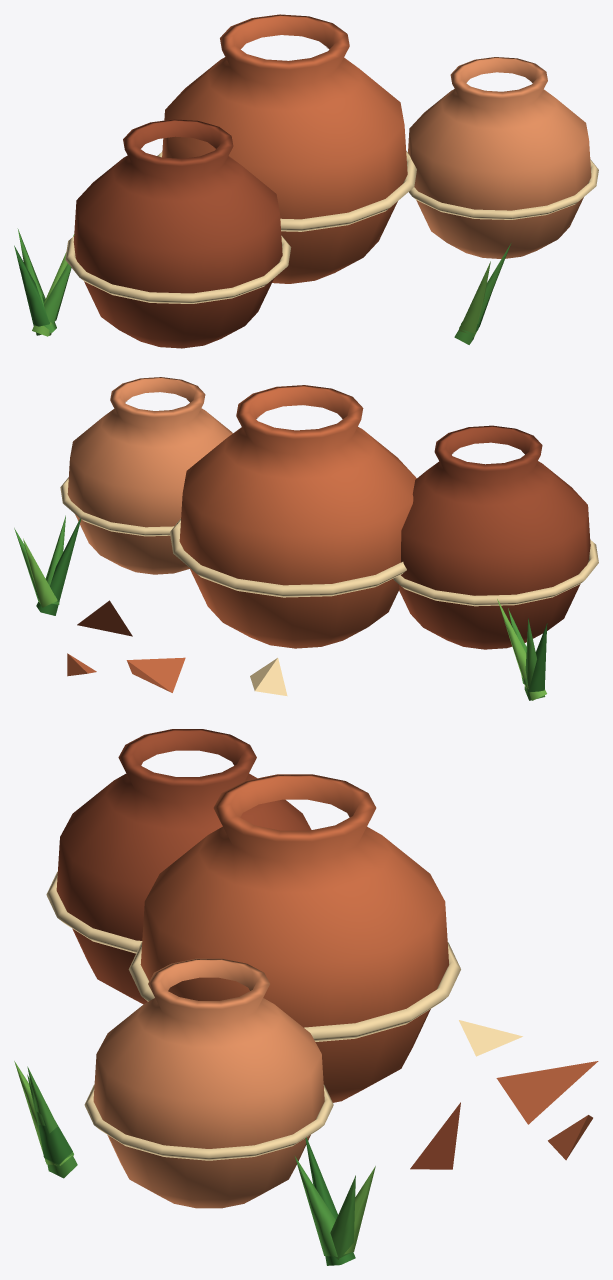
Rendered from ClayPotGroup.glb.
The picture shows the model from 3 angles, top to bottom: view 1: azimuth 30°, elevation 25°; view 2: azimuth 150°, elevation 25°; view 3: azimuth 270°, elevation 25°; orthographic projection. The views are drawn at different scales.
Visible parts, largest first — view 1: Body, Sway; view 2: Body, Sway; view 3: Body, Sway.
Part boxes in pixels (x1=…): Body: x1=65, y1=14, x2=598, y2=348; Sway: x1=14, y1=228, x2=511, y2=344; Body: x1=60, y1=377, x2=598, y2=696; Sway: x1=14, y1=515, x2=547, y2=700; Body: x1=46, y1=729, x2=598, y2=1208; Sway: x1=14, y1=1061, x2=375, y2=1265.
Size of the model in its own units: 3.54 by 1.63 by 2.73.
Materials: 2 (2 with a texture image).
